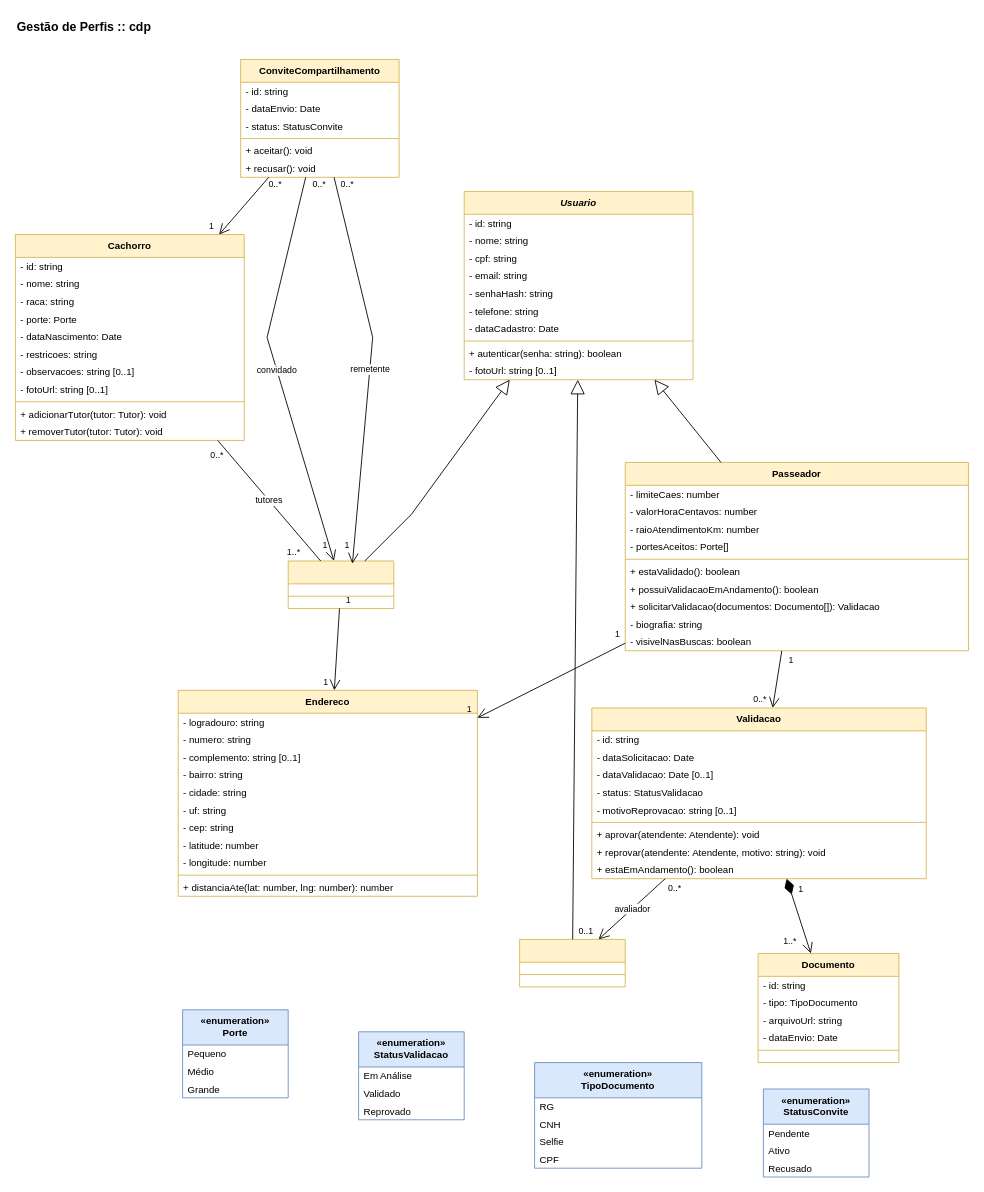
Image size: 984x1192. Some labels were removed from this diagram. Each missing label, with the centre of its shape:
"Atendente" goes at point 572,963.
"Tutor" goes at point 340,584.
